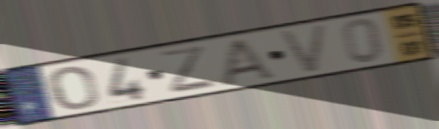0: (339, 16, 386, 66)
4: (106, 56, 148, 103)
A: (218, 36, 280, 87)
O: (47, 65, 101, 112)
V: (276, 21, 331, 76)
Z: (158, 44, 219, 96)
